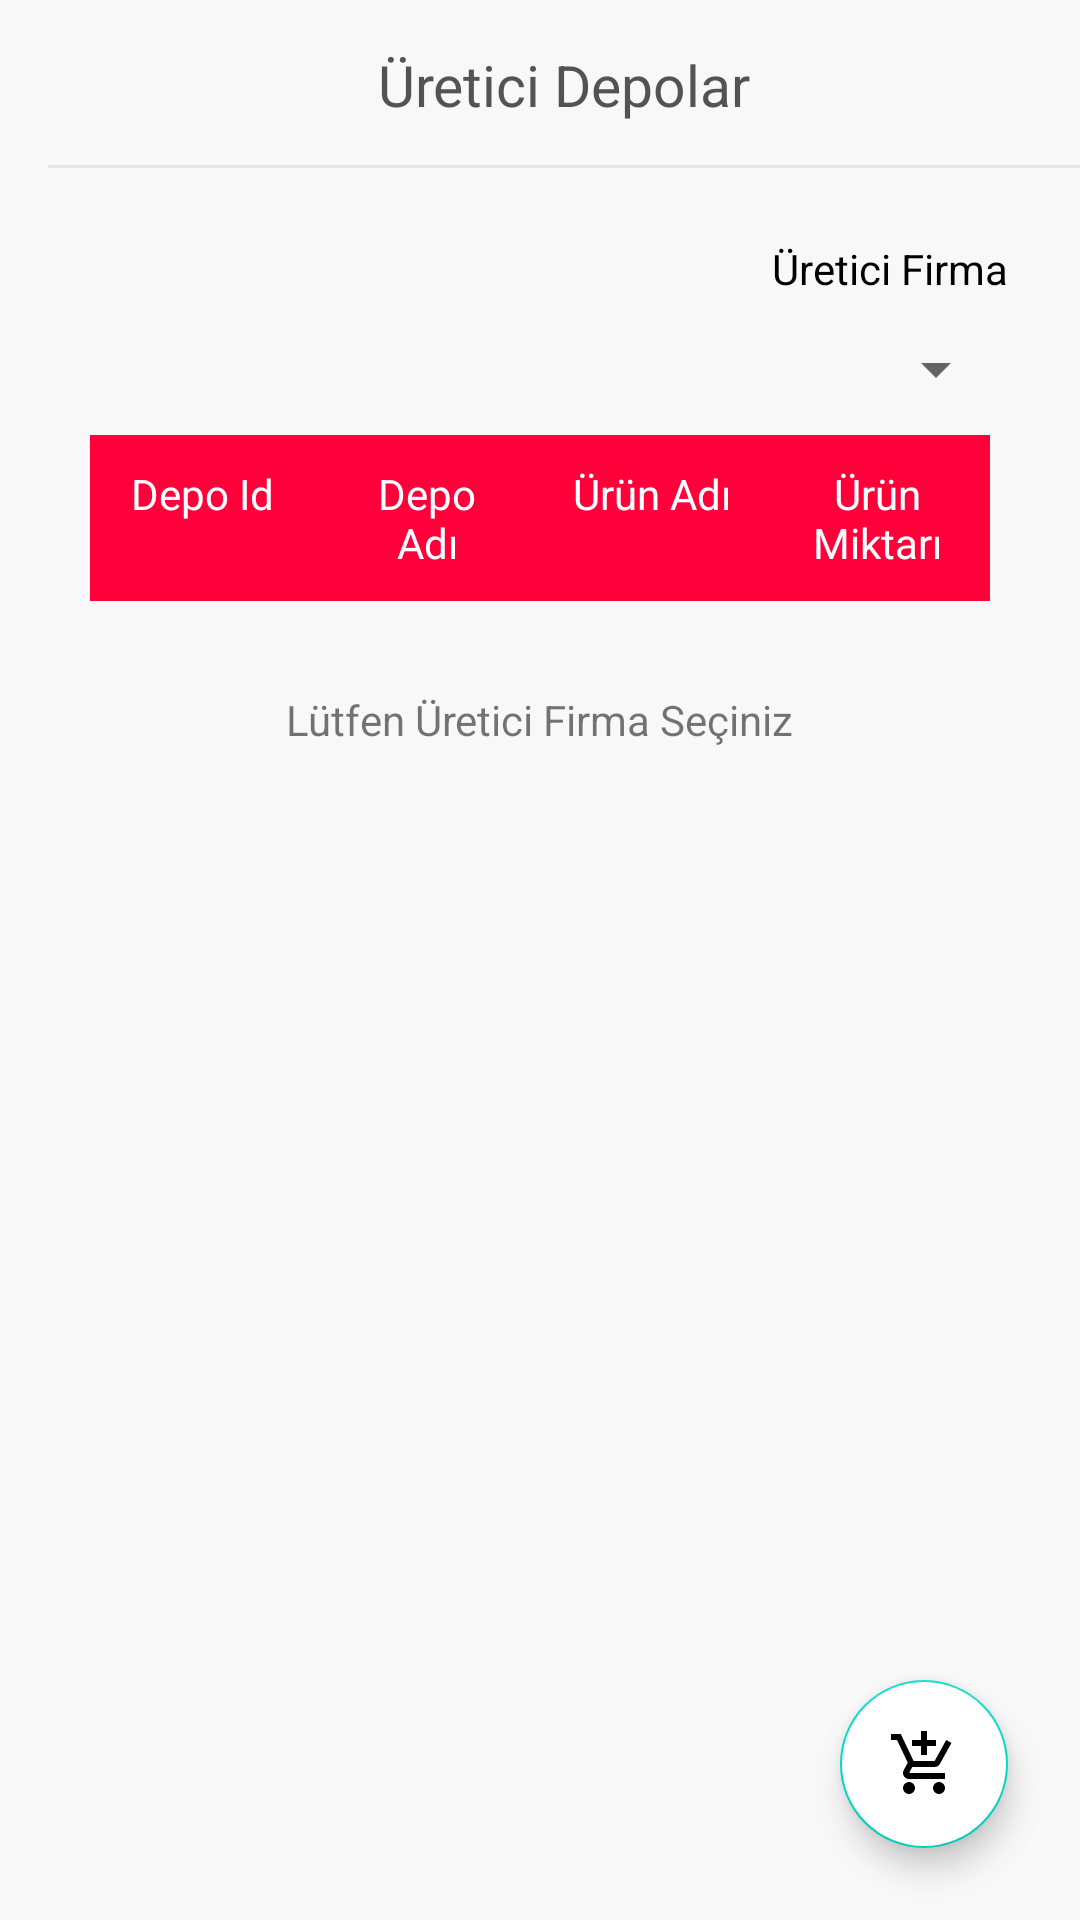

Icons on this 1080 × 1920 Android screen, each with the point to tap as (x=x, y=y):
basket: (x=924, y=1764)
